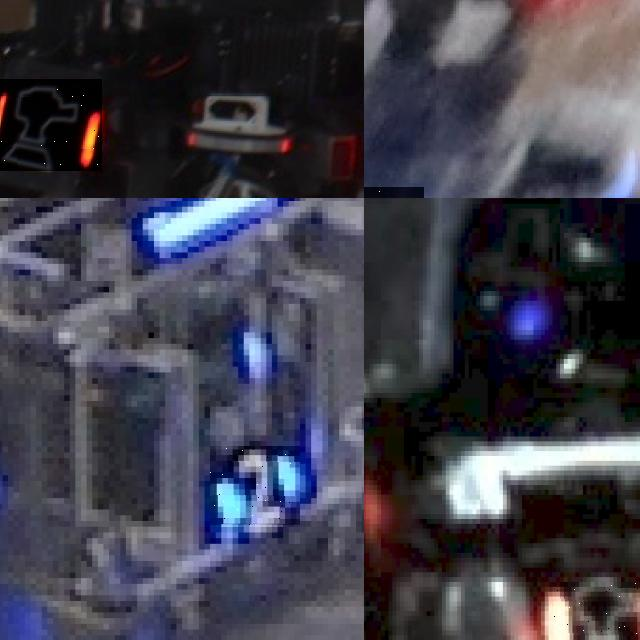B2: (210, 446, 300, 526)
Rs: (0, 78, 101, 171), (548, 581, 640, 640)
